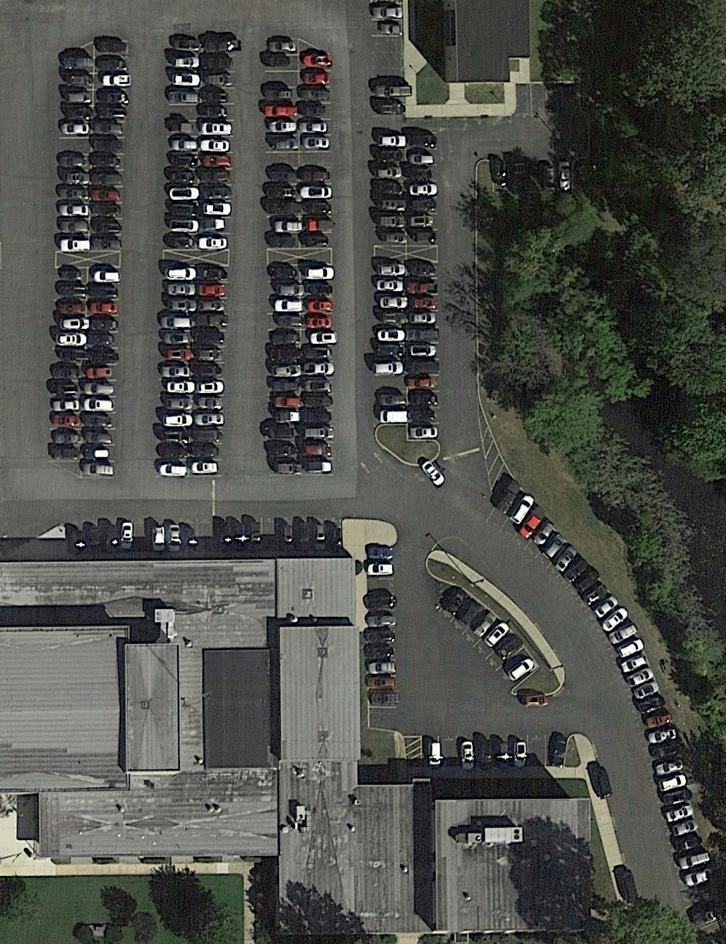parkingspot: (485, 474, 709, 911), (431, 583, 541, 693), (63, 514, 344, 555), (87, 39, 133, 252), (154, 263, 199, 479), (78, 265, 123, 481), (195, 39, 240, 252), (189, 263, 232, 479), (261, 35, 302, 251), (298, 263, 339, 477), (52, 55, 96, 253), (161, 39, 202, 251), (47, 265, 90, 463), (263, 262, 301, 478), (298, 52, 335, 250), (405, 261, 443, 443), (365, 545, 401, 734), (370, 260, 410, 427), (419, 734, 571, 769), (372, 134, 409, 248), (403, 135, 440, 247), (367, 66, 407, 119), (368, 2, 405, 54)
